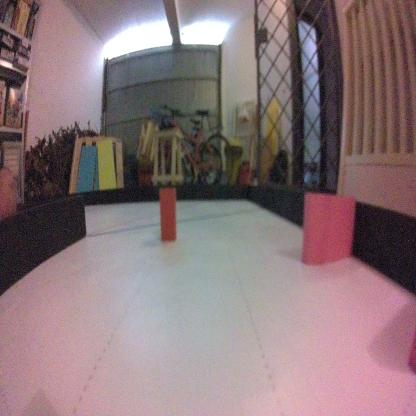magenta: (302, 190, 356, 261)
red: (158, 183, 178, 243)
